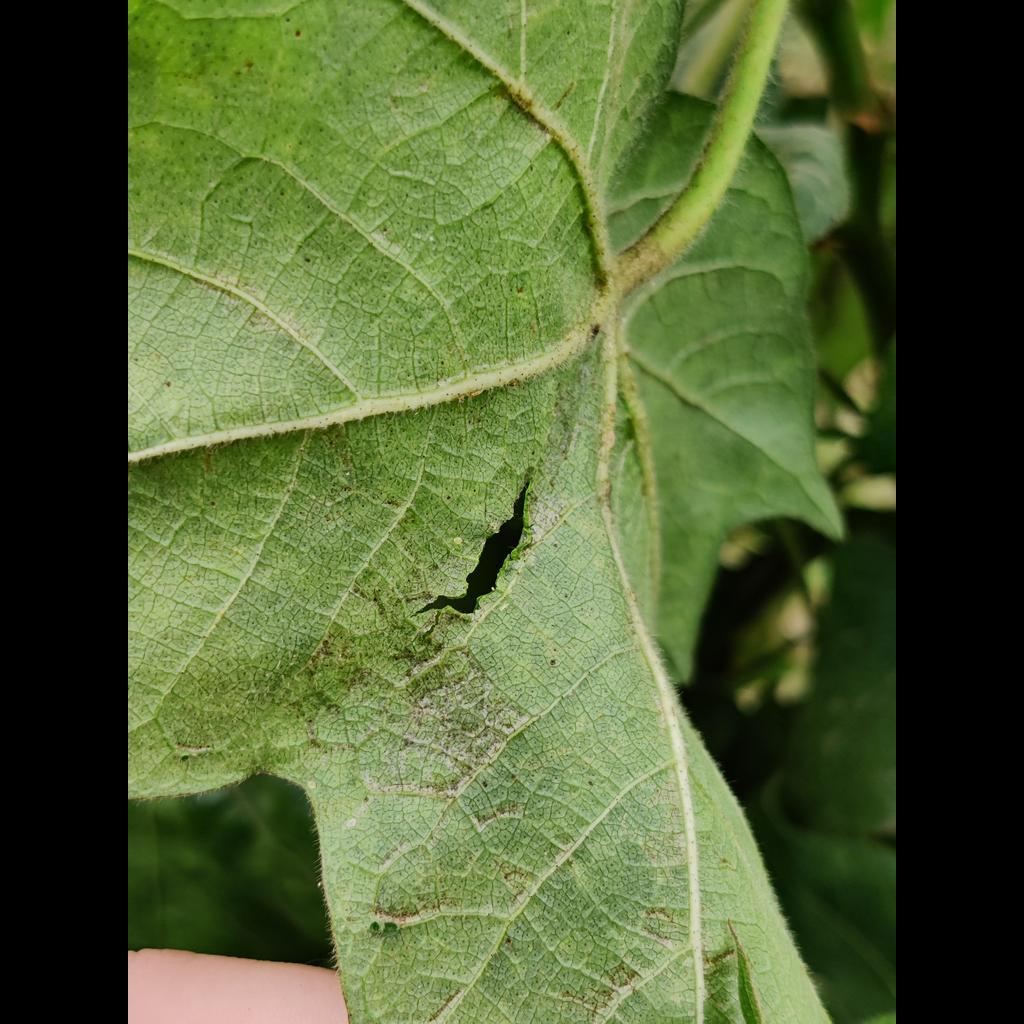nymph: (453, 536, 463, 545), (307, 781, 316, 789)
